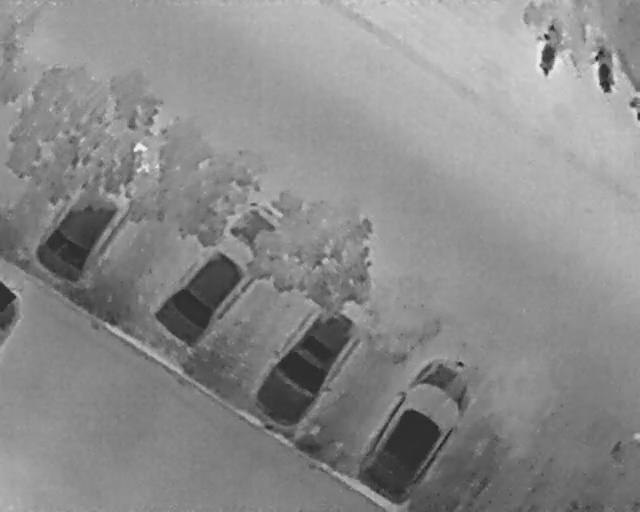Bicycle: (529, 17, 566, 80), (589, 44, 621, 96), (628, 93, 639, 121)
Car: (142, 188, 303, 362), (24, 118, 179, 298), (242, 270, 386, 440), (348, 341, 492, 511), (0, 274, 20, 353)
